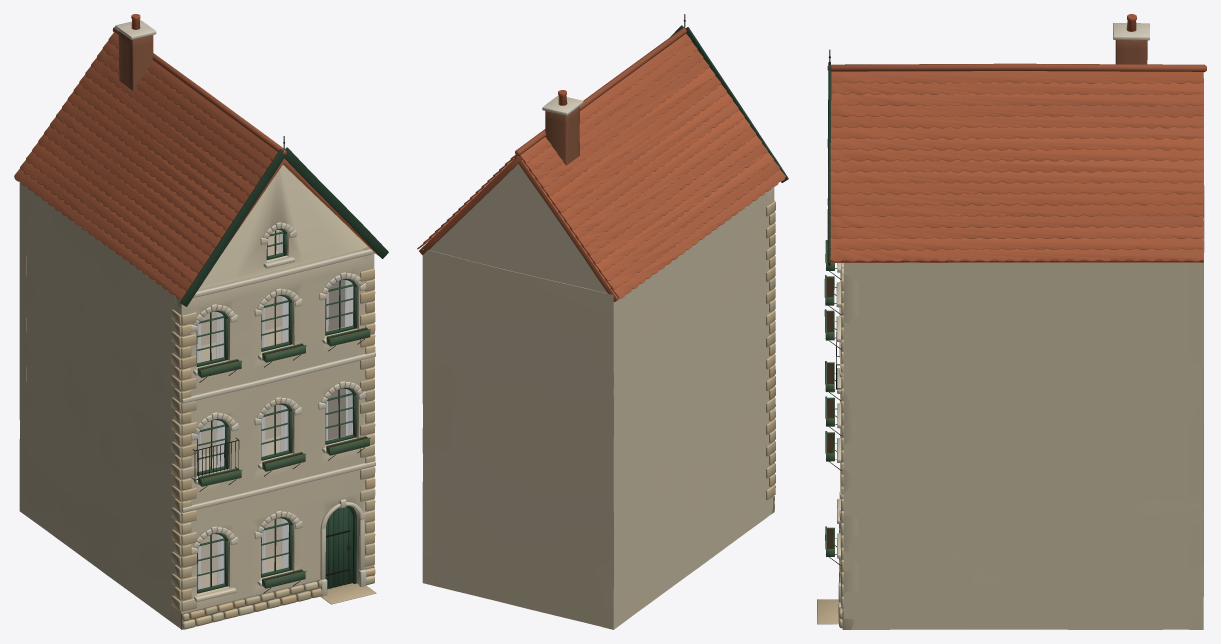
Rendered from GateStreet_Bend1.glb.
3 renders of one model, left to right at view 1: azimuth 30°, elevation 25°; view 2: azimuth 150°, elevation 25°; view 3: azimuth 270°, elevation 25°, orthographic. The views are drawn at different scales.
Parts seen in each view (by area): view 1: Sammel Quader, Sammel Stein, Sammel Lack, Sammel Putz, Glas, Sammel Putz innen, Vorhang Leinen, Sammel Ziegel, Sammel Metall; view 2: Sammel Quader, Sammel Stein, Sammel Ziegel, Sammel Lack, Sammel Putz; view 3: Sammel Quader, Sammel Stein, Sammel Putz, Sammel Lack, Sammel Ziegel.
Part boxes in pixels (x1,y1,x2,y2): Sammel Quader: (19,165,374,628); Sammel Stein: (14,27,379,629); Sammel Lack: (180,147,388,593); Sammel Putz: (115,14,375,629); Glas: (197,230,353,589); Sammel Putz innen: (200,230,345,588); Vorhang Leinen: (197,230,353,589); Sammel Ziegel: (118,31,153,90); Sammel Metall: (191,136,364,593); Sammel Quader: (422,164,774,629); Sammel Stein: (417,27,785,509); Sammel Ziegel: (545,106,579,165); Sammel Lack: (670,25,788,182); Sammel Putz: (542,90,774,512); Sammel Quader: (843,185,1204,629); Sammel Stein: (817,63,1206,628); Sammel Putz: (826,14,1149,629); Sammel Lack: (824,62,834,556); Sammel Ziegel: (1115,40,1147,64).
Size of the model in its own units: 5.95 by 13.61 by 8.67.
